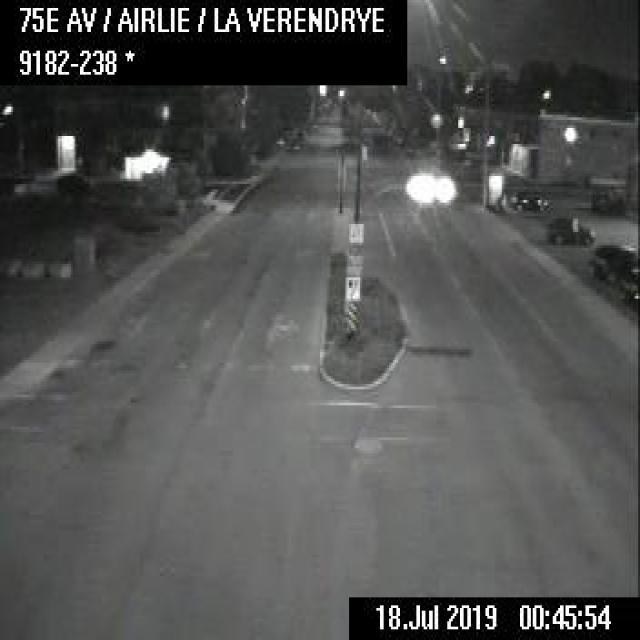vehicle: (587, 240, 637, 276), (546, 213, 592, 246), (511, 186, 550, 212), (54, 168, 91, 192)
